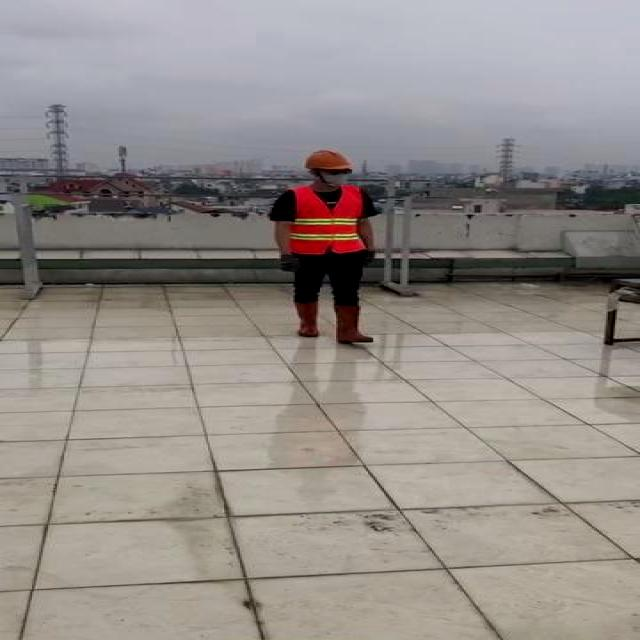boots: (332, 303, 373, 343), (292, 299, 322, 336)
face_mask: (321, 167, 353, 186)
glasses: (325, 166, 354, 176)
hand_glove: (281, 255, 302, 273), (363, 251, 375, 269)
head_helmet: (301, 150, 355, 170)
person: (268, 148, 387, 348)
vest: (292, 186, 364, 254)
